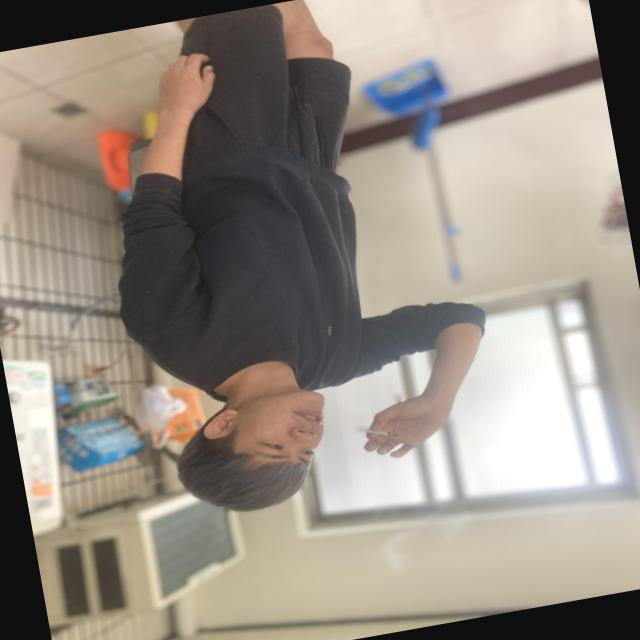cigarette: (348, 410, 396, 448)
